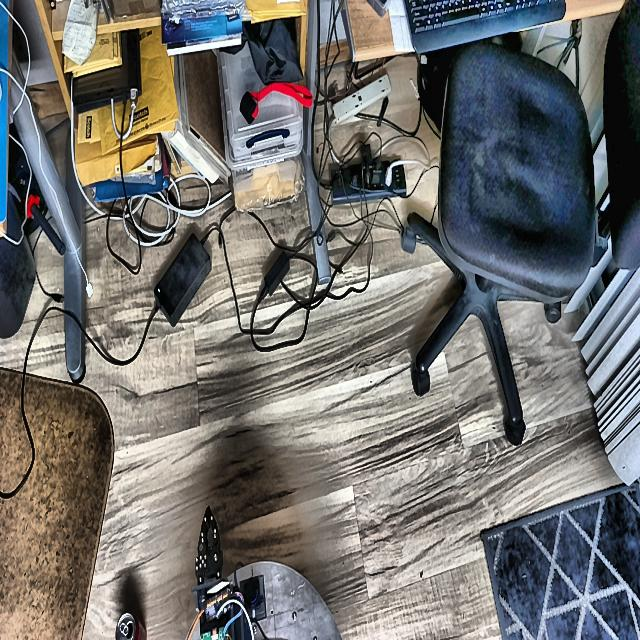Can: (116, 613, 146, 639)
